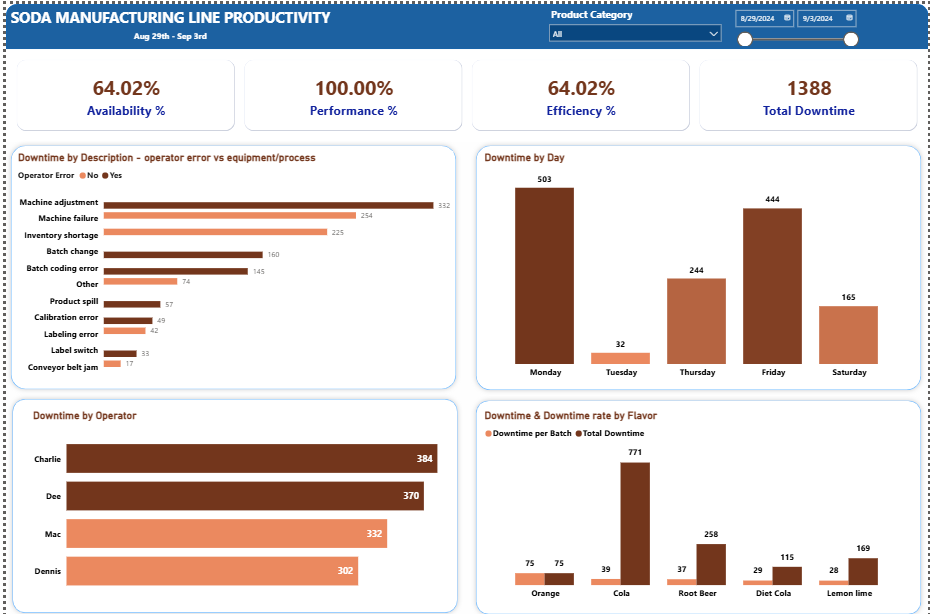

The page's visual inventory and layout, read from the dashboard file:
{"tool":"powerbi","page":{"name":"Page 1","canvas":[1500,1000],"ordinal":0},"visuals":[{"type":"cardVisual","fields":{"Data":["Measures KPI.Availability %","Measures KPI.Performance %","Measures KPI.Efficiency %","Measures KPI.Total Downtime"]},"box":[0,73.6,1499.8,150.9],"z":0},{"type":"shape","box":[0,0,1499.8,73.6],"z":1000},{"type":"textbox","box":[1.9,0,530.1,43.4],"z":2000},{"type":"textbox","box":[192.4,37.7,149,30.2],"z":3000},{"type":"shape","box":[0,222.5,740,412.5],"z":4000},{"type":"clusteredBarChart","title":"Downtime by Description - operator error vs equipment/process","fields":{"Category":["DowntimeFactors.Description"],"Y":["Measures KPI.Total Downtime"],"Series":["DowntimeFactors.Operator_Error"]},"box":[15,240,712.5,377.5],"z":5000},{"type":"shape","box":[2,634,740,364],"z":7000},{"type":"clusteredBarChart","title":"Downtime by Operator","fields":{"Category":["LineProductivity.Operator"],"Y":["Measures KPI.Total Downtime"]},"box":[40,658,700,318],"z":9000},{"type":"shape","box":[756,222,740,414],"z":9001},{"type":"columnChart","title":"Downtime by Day","fields":{"Category":["Date.DayOfWeekName"],"Y":["Measures KPI.Total Downtime"]},"box":[774,240,702,378],"z":9002},{"type":"shape","box":[756,636,740,364],"z":9003},{"type":"columnChart","title":"Downtime by Flavor","fields":{"Category":["Products.Flavor"],"Y":["Measures KPI.Total Downtime"]},"box":[774,658,702,318],"z":9004},{"type":"slicer","fields":{"Values":["Products.Product"]},"box":[874,0,300,68],"z":9005},{"type":"slicer","fields":{"Values":["Date.Date"]},"box":[1174,2,300,68],"z":9006}]}

Visuals, with their boxes in screenshot pixels (x1, y1, x2, y2), scaled from the page's 1500x1000 canvas onto the 930x614 screenshot:
cardVisual - Measures KPI.Availability % x Measures KPI.Performance %: {"left": 0, "top": 45, "right": 929, "bottom": 138}
shape: {"left": 0, "top": 0, "right": 929, "bottom": 45}
textbox: {"left": 1, "top": 0, "right": 330, "bottom": 27}
textbox: {"left": 119, "top": 23, "right": 212, "bottom": 42}
shape: {"left": 0, "top": 137, "right": 459, "bottom": 390}
"Downtime by Description - operator error vs equipment/process" clusteredBarChart: {"left": 9, "top": 147, "right": 451, "bottom": 379}
shape: {"left": 1, "top": 389, "right": 460, "bottom": 613}
"Downtime by Operator" clusteredBarChart: {"left": 25, "top": 404, "right": 459, "bottom": 599}
shape: {"left": 469, "top": 136, "right": 928, "bottom": 391}
"Downtime by Day" columnChart: {"left": 480, "top": 147, "right": 915, "bottom": 379}
shape: {"left": 469, "top": 391, "right": 928, "bottom": 613}
"Downtime by Flavor" columnChart: {"left": 480, "top": 404, "right": 915, "bottom": 599}
slicer - Products.Product: {"left": 542, "top": 0, "right": 728, "bottom": 42}
slicer - Date.Date: {"left": 728, "top": 1, "right": 914, "bottom": 43}
